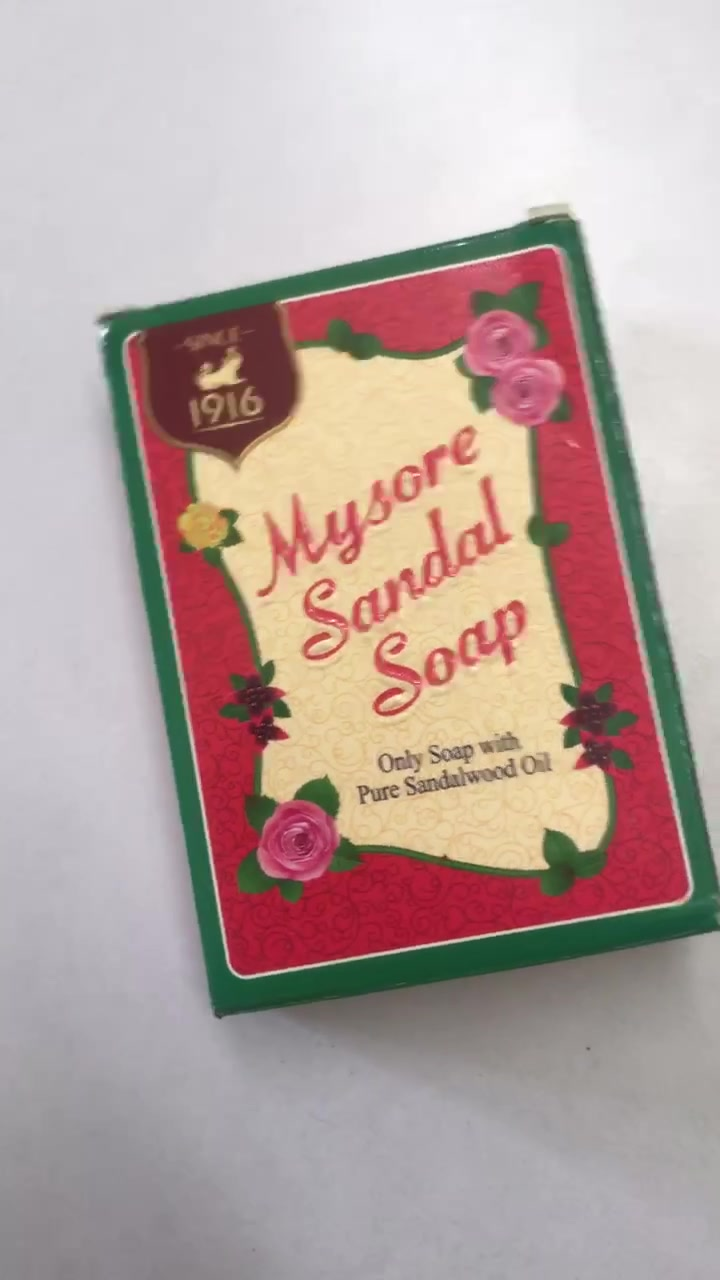mysore sandal soap: (103, 225, 720, 1019)
